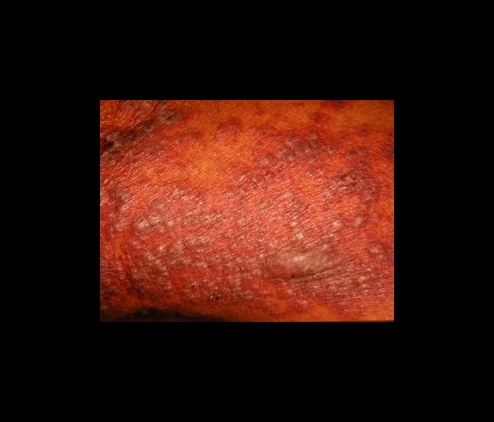SJS-TEN: (98, 97, 392, 325)
